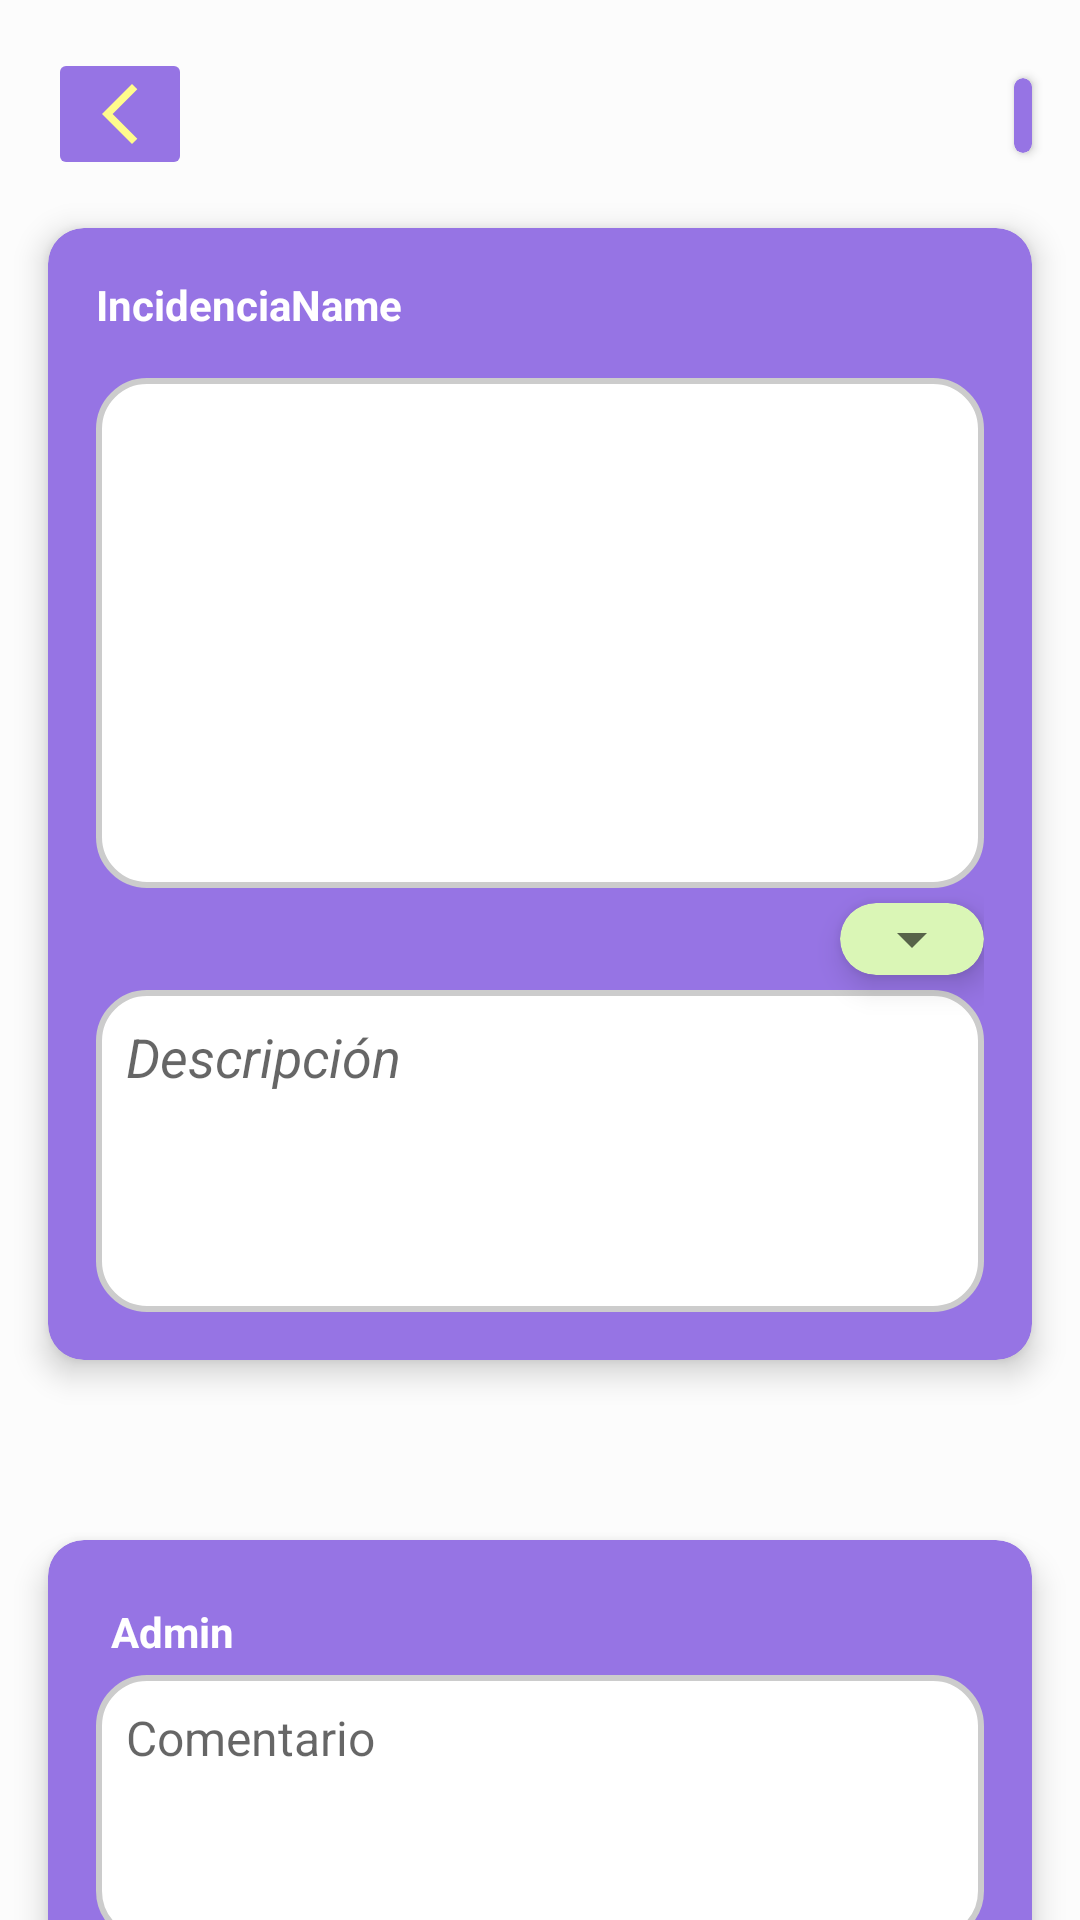

Icons on this 1080 x 1920 Android screen, each with its box as (x1, y1, x2, y2):
go back: (60, 66, 180, 162)
